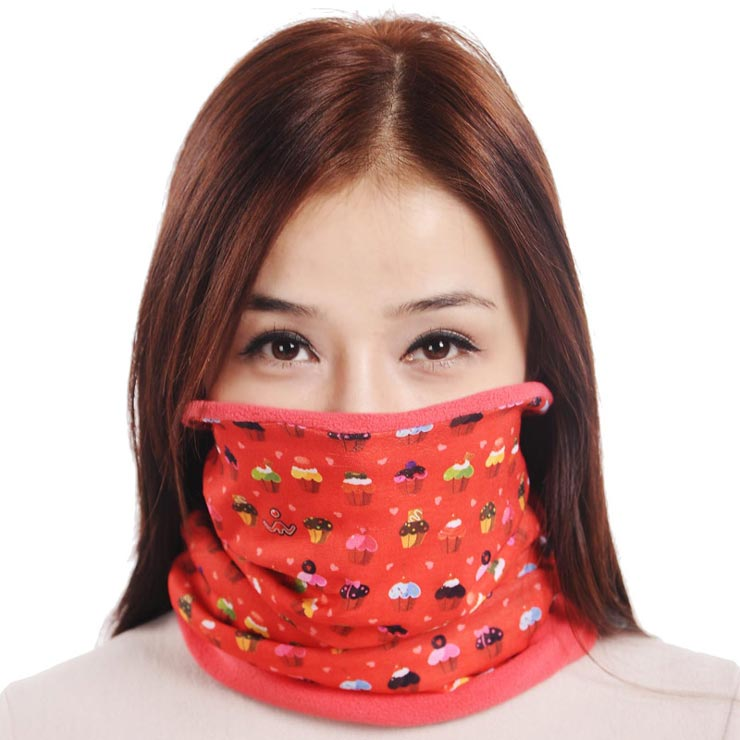face_mask: (205, 178, 522, 602)
